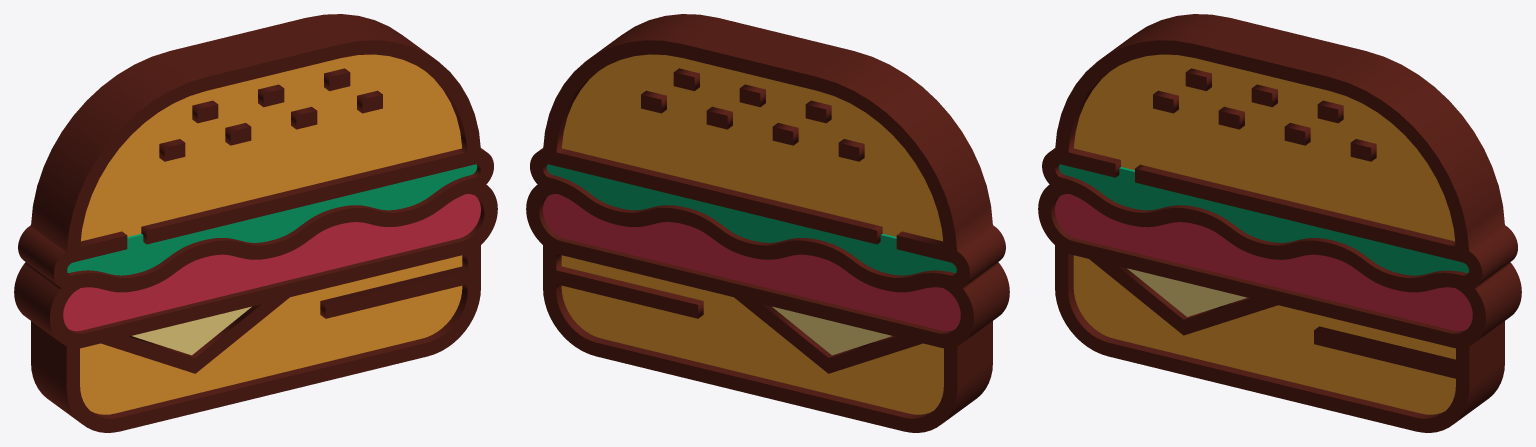
File: Burger.fbx
3 renders of one model, left to right at view 1: azimuth 30°, elevation 25°; view 2: azimuth 150°, elevation 25°; view 3: azimuth 330°, elevation 25°, orthographic.
Parts seen in each view (by area): view 1: Curve.005, Curve.001, Curve, Curve.004, Curve.003, Curve.002, Curve.006, Curve.010, Curve.011, Curve.007, Curve.008, Curve.012 (+1 smaller); view 2: Curve.005, Curve.001, Curve, Curve.004, Curve.003, Curve.002, Curve.006, Curve.010, Curve.007, Curve.011, Curve.008, Curve.012 (+1 smaller); view 3: Curve.005, Curve.001, Curve, Curve.004, Curve.003, Curve.002, Curve.007, Curve.012, Curve.011, Curve.006, Curve.009, Curve.010 (+1 smaller).
Part boxes in pixels (left/top/right/bottom): Curve.005: left=14, top=14, right=497, bottom=432; Curve.001: left=81, top=54, right=461, bottom=241; Curve: left=80, top=255, right=462, bottom=414; Curve.004: left=63, top=194, right=480, bottom=331; Curve.003: left=67, top=164, right=477, bottom=275; Curve.002: left=132, top=306, right=251, bottom=355; Curve.006: left=192, top=100, right=218, bottom=123; Curve.010: left=291, top=106, right=317, bottom=129; Curve.011: left=258, top=84, right=284, bottom=107; Curve.007: left=225, top=123, right=251, bottom=145; Curve.008: left=159, top=139, right=185, bottom=161; Curve.012: left=324, top=68, right=350, bottom=91; Curve.005: left=526, top=14, right=1009, bottom=432; Curve.001: left=562, top=54, right=942, bottom=241; Curve: left=561, top=255, right=943, bottom=414; Curve.004: left=543, top=194, right=960, bottom=331; Curve.003: left=546, top=164, right=956, bottom=275; Curve.002: left=772, top=306, right=891, bottom=355; Curve.006: left=805, top=100, right=831, bottom=123; Curve.010: left=706, top=106, right=732, bottom=129; Curve.007: left=772, top=123, right=798, bottom=145; Curve.011: left=739, top=84, right=765, bottom=107; Curve.008: left=838, top=139, right=864, bottom=161; Curve.012: left=673, top=68, right=699, bottom=90; Curve.005: left=1038, top=14, right=1521, bottom=432; Curve.001: left=1074, top=54, right=1454, bottom=241; Curve: left=1073, top=255, right=1455, bottom=414; Curve.004: left=1055, top=194, right=1472, bottom=331; Curve.003: left=1059, top=164, right=1468, bottom=275; Curve.002: left=1127, top=268, right=1246, bottom=316; Curve.007: left=1218, top=106, right=1244, bottom=129; Curve.012: left=1317, top=100, right=1343, bottom=123; Curve.011: left=1251, top=84, right=1277, bottom=107; Curve.006: left=1185, top=68, right=1211, bottom=91; Curve.009: left=1350, top=139, right=1376, bottom=161; Curve.010: left=1284, top=123, right=1310, bottom=145.
Bounding box in the file's own units: 145 × 103 × 20.01.
